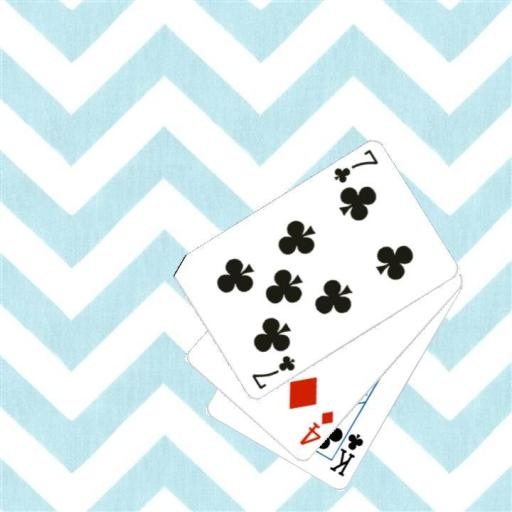4D: (296, 408, 336, 447)
7C: (330, 146, 380, 186), (248, 352, 297, 391)
KC: (326, 421, 366, 479)
